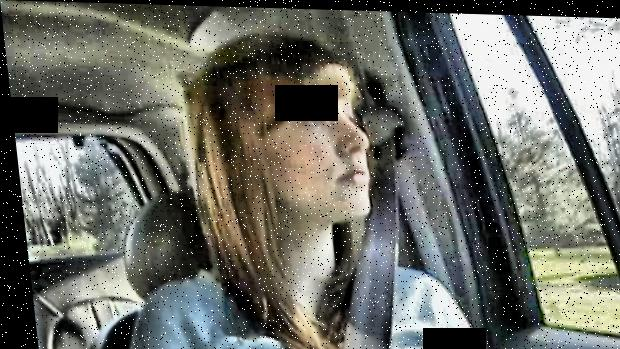seatbelt: (295, 63, 419, 349)
